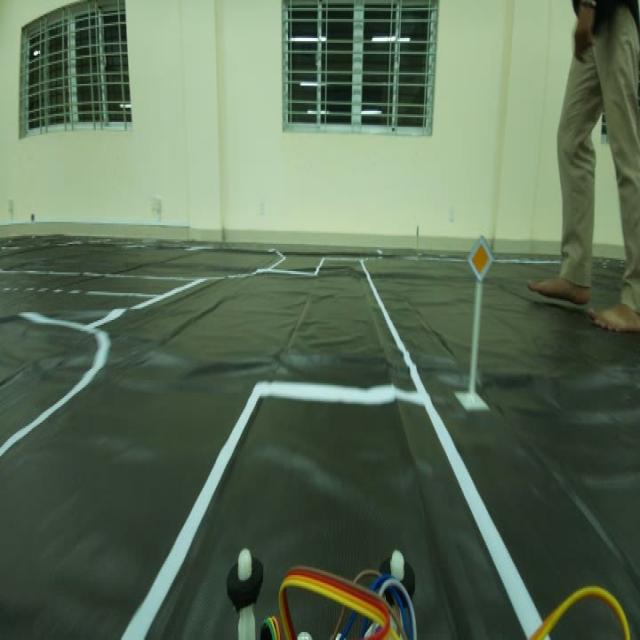priority: (465, 230, 495, 285)
